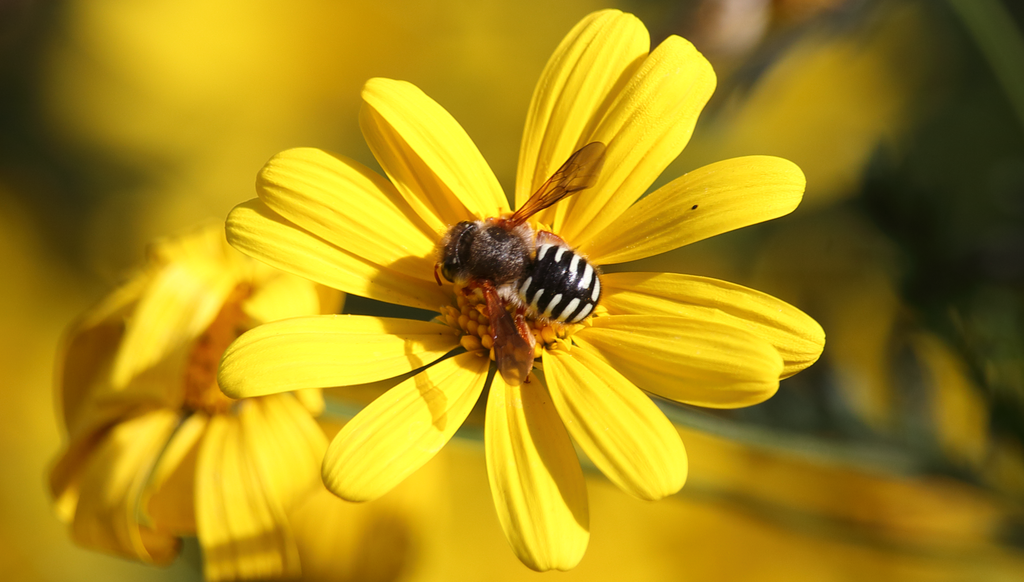not_bumblebee: (434, 142, 609, 393)
